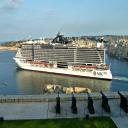cruises: (12, 32, 114, 84)
